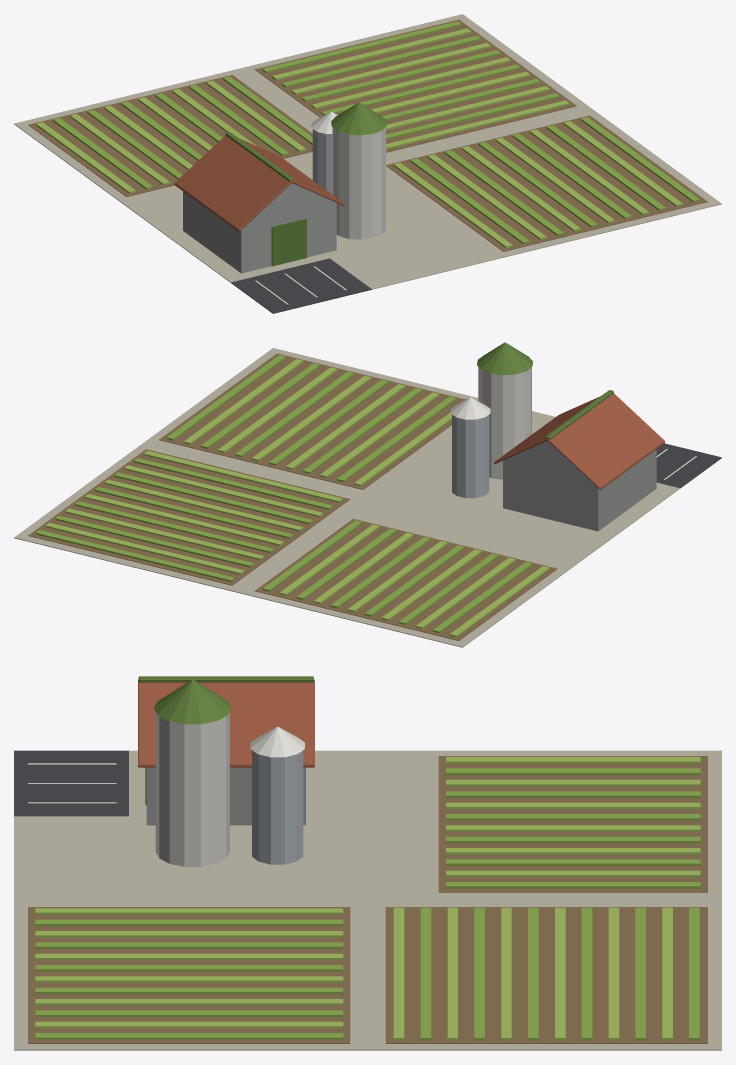
Rendered from farm_young.glb.
3 views of the same model, one above another, from view 1: azimuth 30°, elevation 25°; view 2: azimuth 150°, elevation 25°; view 3: azimuth 270°, elevation 25° (orthographic). The views are drawn at different scales.
Parts seen in each view (by area): view 1: farm_young; view 2: farm_young; view 3: farm_young.
Part boxes in pixels (x1,y1,x2,y2): farm_young: [14, 14, 721, 313]; farm_young: [14, 342, 721, 647]; farm_young: [14, 676, 721, 1050].
Size of the model in its own units: 40 by 10.8 by 40.
